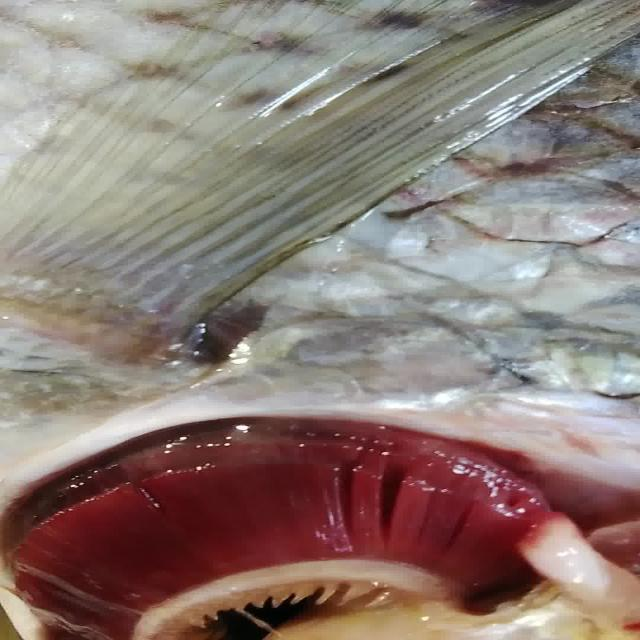Fresh: (4, 394, 590, 632)
